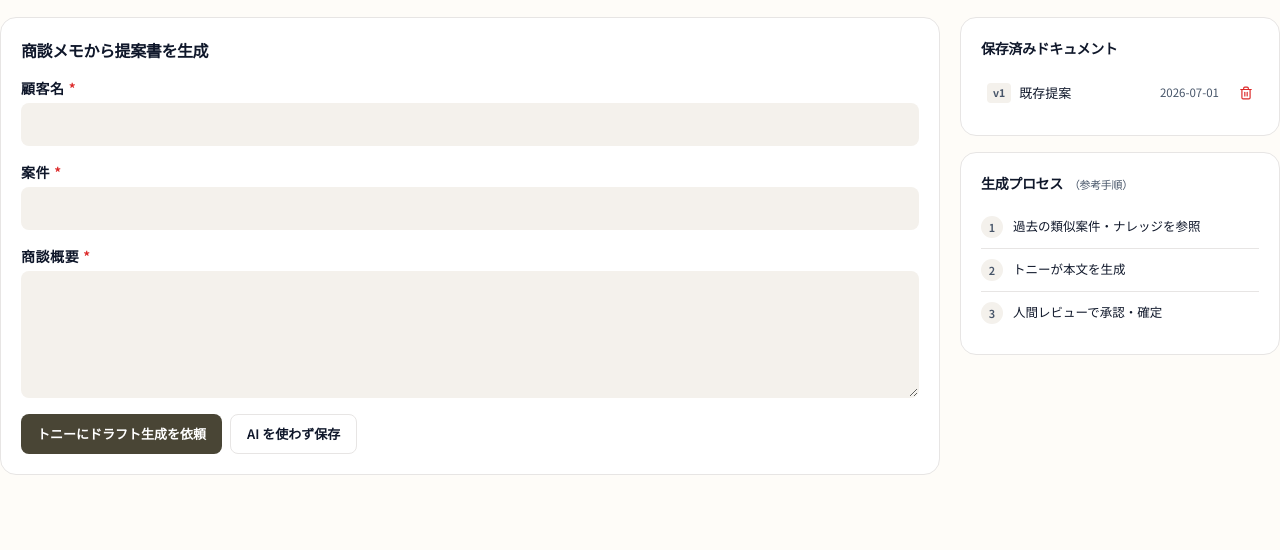
Test: S-N01 宛先の検証は日本語で (GAP-305 / 通し J47-06) › 不正な宛先はアプリの日本語で拒否し、送信 API を呼ばない
Click the text "既存提案" at coordinates (1045, 93), box [1019,83,1071,103]
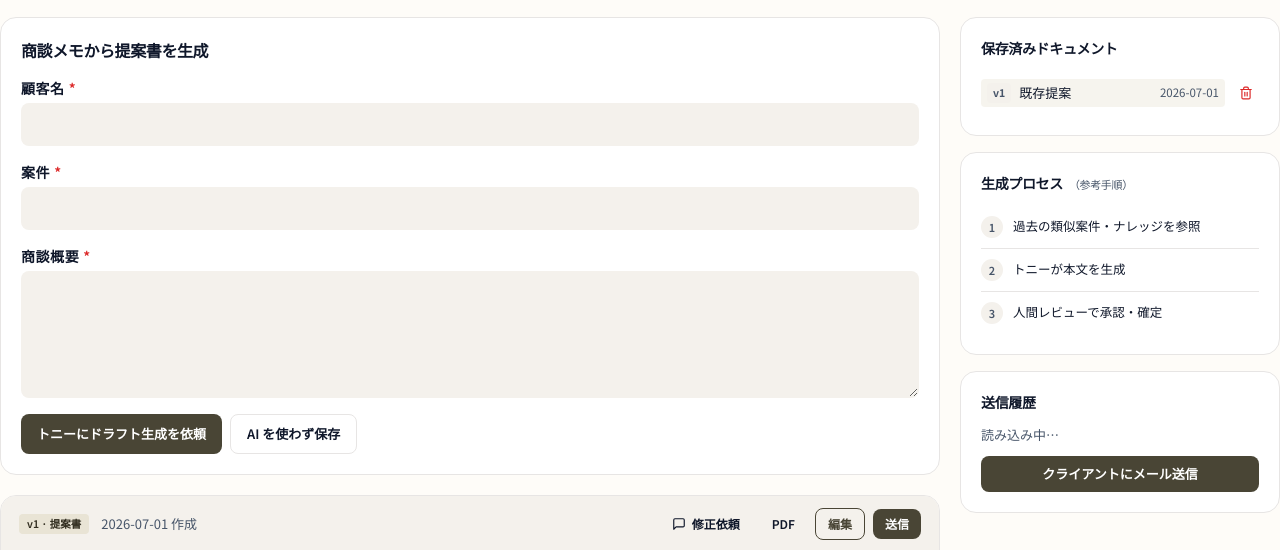
Click the button "送信" at coordinates (897, 524), box [873,509,921,539]
(page scrolled)
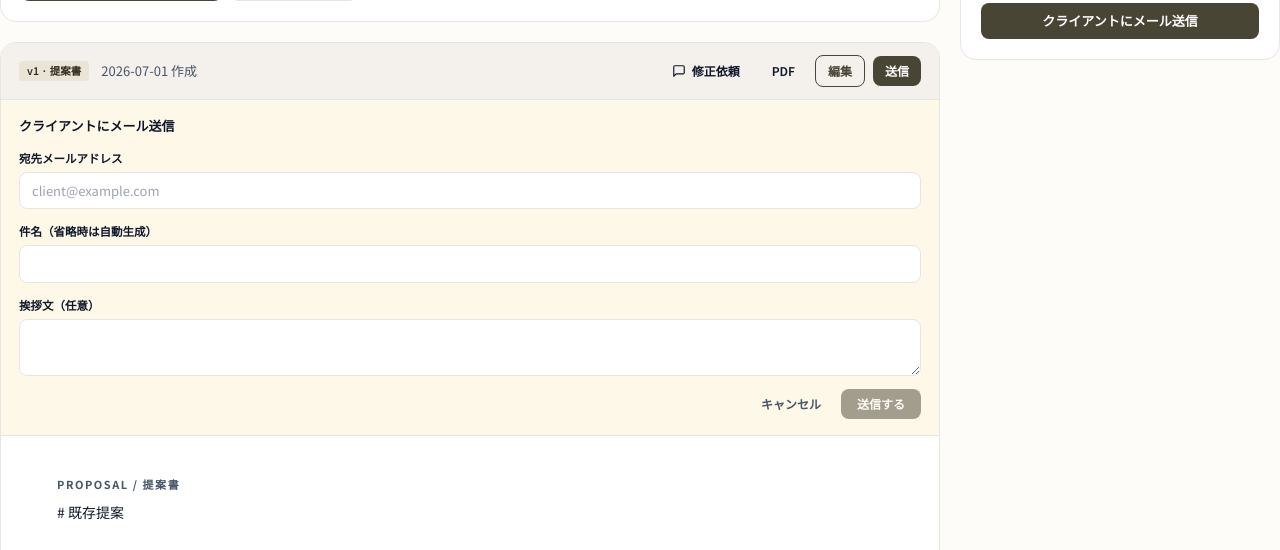
Type "not-an-address" into the field labelled "宛先メールアドレス" at coordinates (470, 190), box [19,172,921,209]
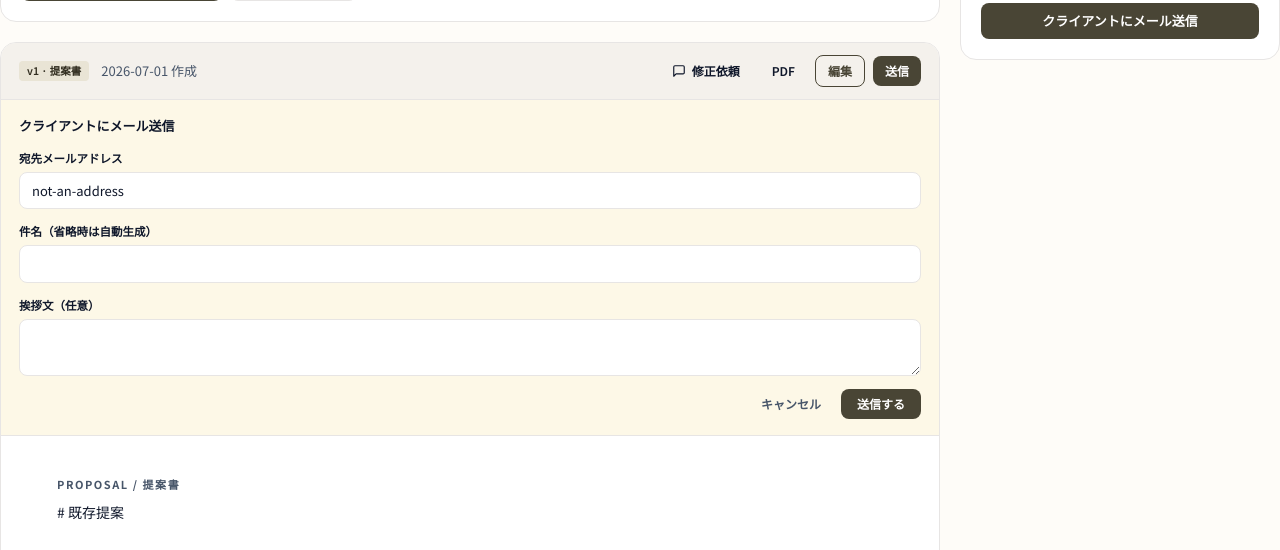
Click the button "送信する" at coordinates (881, 404), box [841,388,921,418]
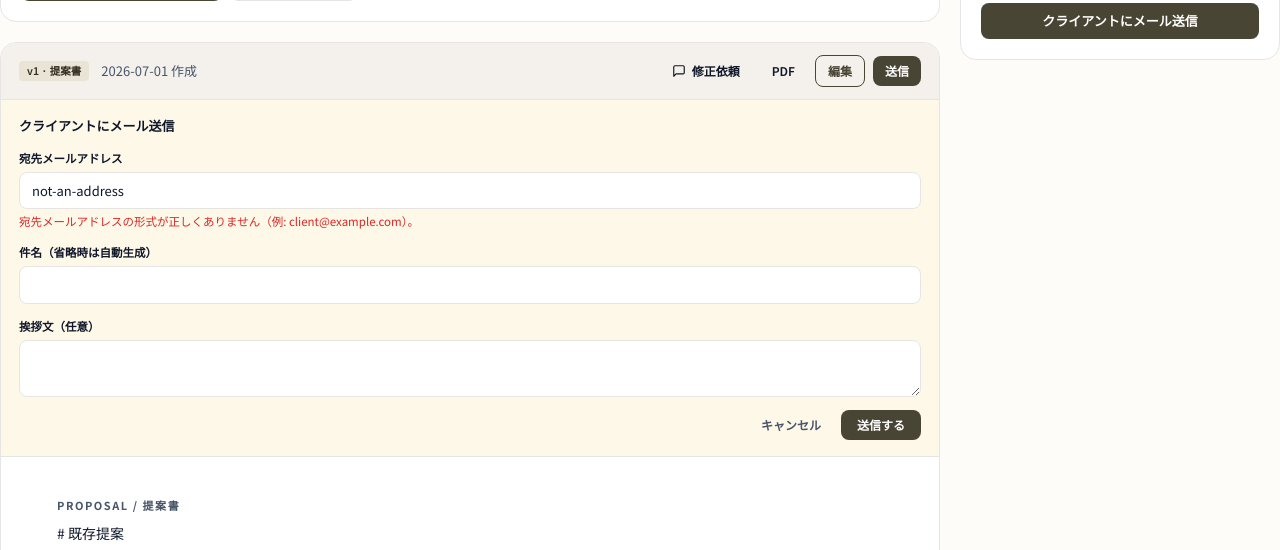
Result: the message shows "宛先メールアドレスの形式が正しくありません" at [19,213,419,229]
